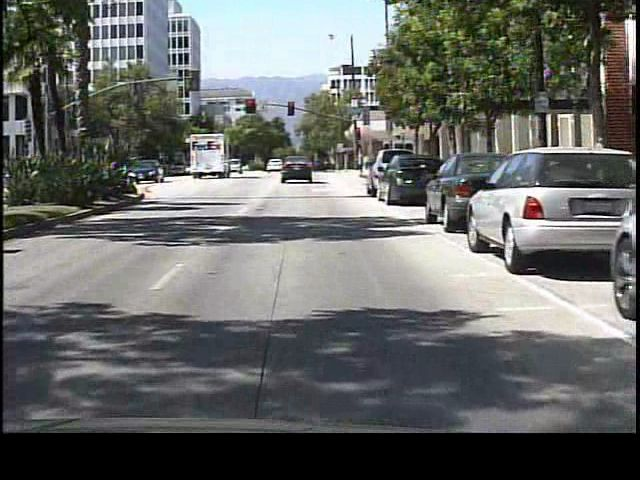person: (353, 147, 367, 177)
